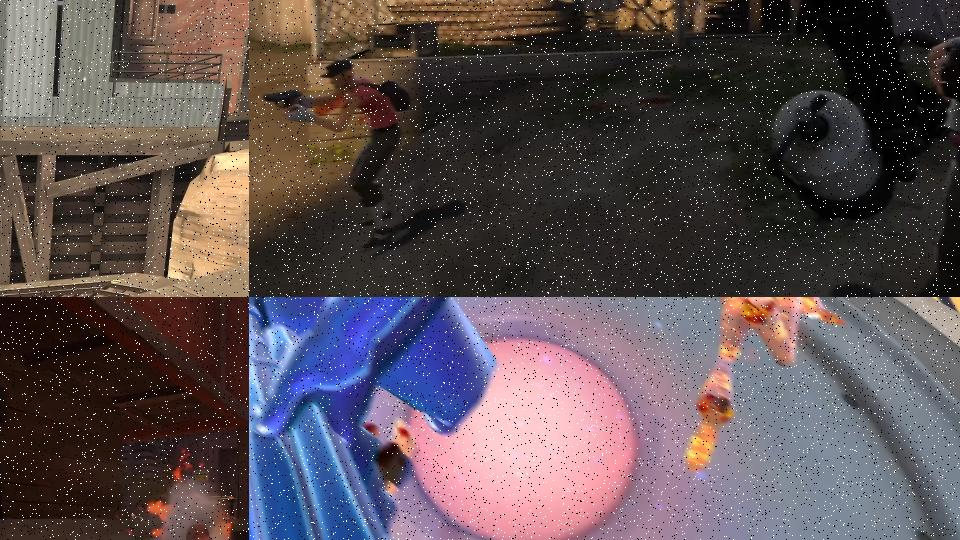Enemy: (249, 297, 500, 540), (769, 0, 960, 297), (642, 297, 846, 476), (263, 60, 415, 250)
